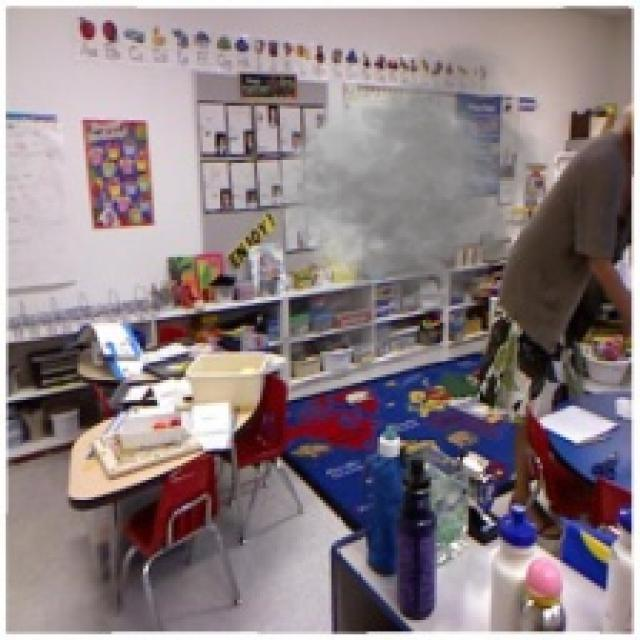Smoke: (211, 29, 566, 378)
